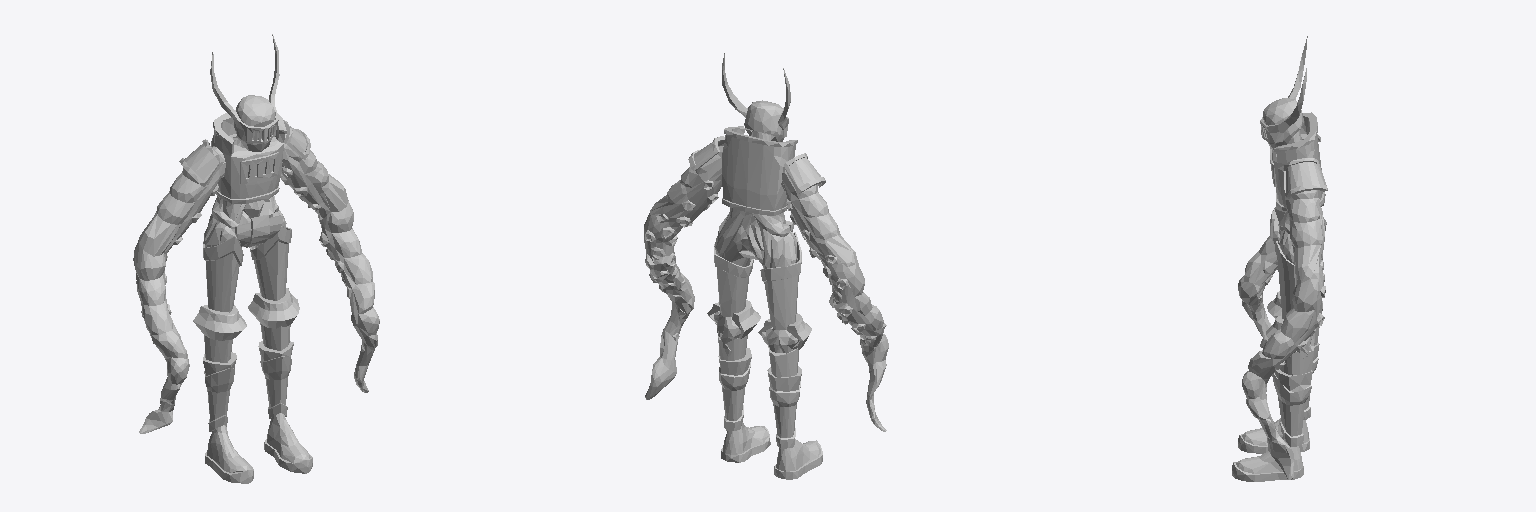
File: alien1.obj
3 views of the same model, side by side, from view 1: azimuth 30°, elevation 25°; view 2: azimuth 150°, elevation 25°; view 3: azimuth 270°, elevation 25° (orthographic).
Parts seen in each view (by area): view 1: Merged_PM3D_Sphere3D:Group24475; view 2: Merged_PM3D_Sphere3D:Group24475; view 3: Merged_PM3D_Sphere3D:Group24475.
Part boxes in pixels (bbox=[...]): Merged_PM3D_Sphere3D:Group24475: bbox=[133, 34, 379, 483]; Merged_PM3D_Sphere3D:Group24475: bbox=[644, 53, 888, 479]; Merged_PM3D_Sphere3D:Group24475: bbox=[1232, 36, 1327, 481].
Size of the model in its own units: 1.76 by 2.95 by 0.6266.